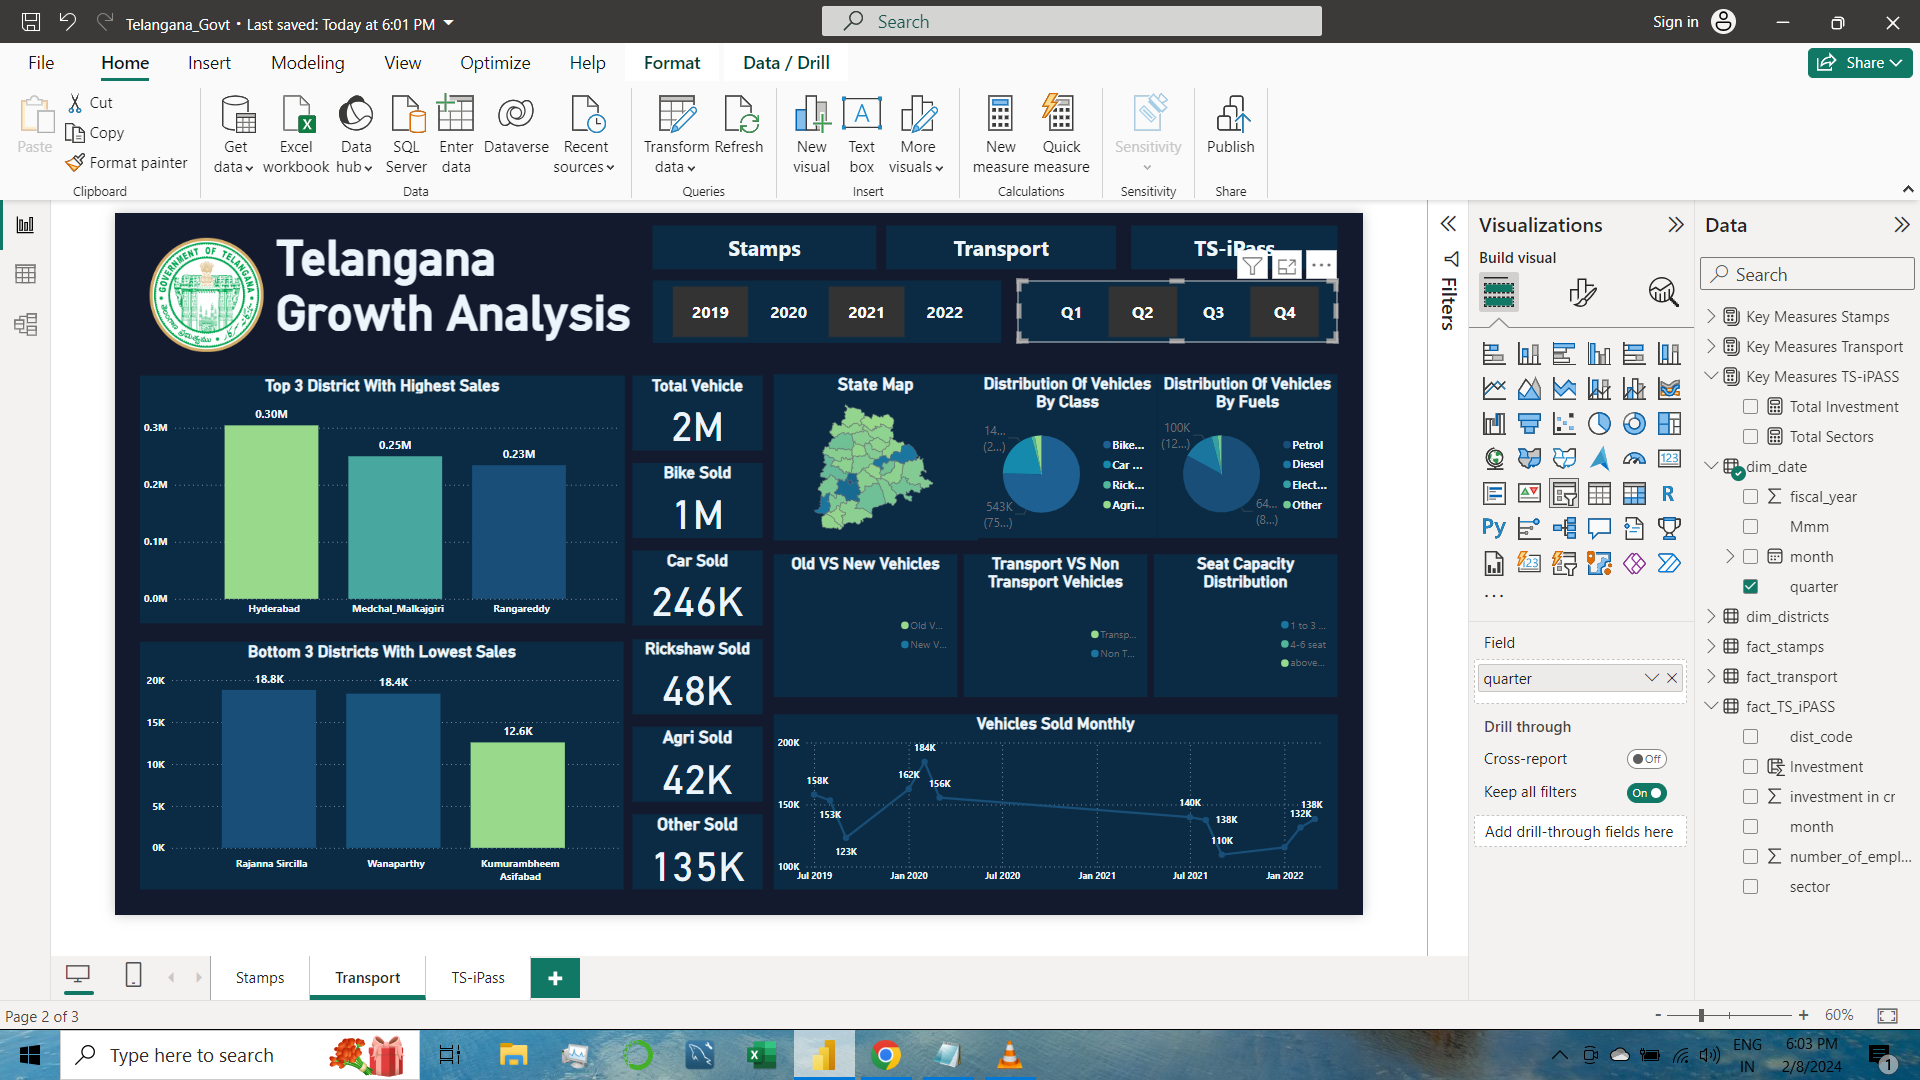

The page's visual inventory and layout, read from the dashboard file:
{"tool":"powerbi","page":{"name":"Transport","canvas":[1664,936],"ordinal":1},"visuals":[{"type":"slicer","fields":{"Values":["dim_date.fiscal_year"]},"box":[716.7,90,465,83.3],"z":0},{"type":"slicer","fields":{"Values":["dim_date.quarter"]},"box":[1203.3,90,426.7,83.3],"z":1000},{"type":"clusteredColumnChart","title":"Top 3 District With Highest Sales","fields":{"Category":["dim_districts.district"],"Y":["Key Measures Transport.Total Vehicle Sold"]},"box":[34,216,646,330],"z":2000},{"type":"clusteredColumnChart","title":"Bottom 3 Districts With Lowest Sales","fields":{"Category":["dim_districts.district"],"Y":["Key Measures Transport.Total Vehicle Sold"]},"box":[33.3,571.7,645,330],"z":3000},{"type":"lineChart","title":"Vehicles Sold Monthly","fields":{"Category":["dim_date.month"],"Y":["Key Measures Transport.Total Vehicle Sold"]},"box":[878.3,668.3,751.7,233.3],"z":4000},{"type":"donutChart","title":"Old VS New Vehicles","fields":{"Y":["Key Measures Transport.Old Vehicles","Key Measures Transport.New Vehicles"]},"box":[878.3,455,245,190],"z":5000},{"type":"pieChart","title":"Distribution Of Vehicles By Class","fields":{"Y":["Key Measures Transport.Bike sOLD","Key Measures Transport.Car Sold","Key Measures Transport.Rickshaw Sold","Key Measures Transport.Agriculture Sold"]},"box":[1150,215,240,218.8],"z":6000},{"type":"card","title":"Other Sold","fields":{"Values":["Key Measures Transport.Other Vechile Sold"]},"box":[690,801.7,173.3,100],"z":7000},{"type":"card","title":"Agri Sold","fields":{"Values":["Key Measures Transport.Agriculture Sold"]},"box":[690,684.7,173.3,100],"z":8000},{"type":"card","title":"Rickshaw Sold","fields":{"Values":["Key Measures Transport.Rickshaw Sold"]},"box":[690,567.7,173.3,100],"z":9000},{"type":"card","title":"Car Sold","fields":{"Values":["Key Measures Transport.Used Vehicles Sold"]},"box":[690,450.7,173.3,100],"z":10000},{"type":"shapeMap","title":"State Map","fields":{"Category":["dim_districts.district"],"Value":["Key Measures Transport.Total Vehicle Sold"]},"box":[878.3,215,271.7,221.7],"z":11000},{"type":"card","title":"Bike Sold","fields":{"Values":["Key Measures Transport.New Vehicles Sold"]},"box":[690,333.7,173.3,100],"z":12000},{"type":"card","title":"Total Vehicle ","fields":{"Values":["Key Measures Transport.Total Vehicle Sold"]},"box":[690,216.7,173.3,100],"z":13000},{"type":"image","box":[33.3,28.3,176.7,161.7],"z":14000},{"type":"textbox","box":[210,16.7,506.7,173.3],"z":15000},{"type":"actionButton","box":[716.7,16.7,298.3,58.3],"z":16000},{"type":"actionButton","box":[1355,16.7,275,58.3],"z":17000},{"type":"actionButton","box":[1028.3,16.7,306.7,58.3],"z":18000},{"type":"donutChart","title":"Transport VS Non Transport Vehicles","fields":{"Y":["Key Measures Transport.Transport Vehicles","Key Measures Transport.Non Transport"]},"box":[1131.7,455,245,190],"z":19000},{"type":"donutChart","title":"Seat Capacity Distribution","fields":{"Y":["Key Measures Transport.1 to 3 seat","Key Measures Transport.4-6 seat","Key Measures Transport.above 6 seat"]},"box":[1385,455,245,190],"z":20000},{"type":"pieChart","title":"Distribution Of Vehicles By Fuels","fields":{"Y":["Key Measures Transport.Petrol","Key Measures Transport.Diesel","Key Measures Transport.Electric","Key Measures Transport.Other Fuel type"]},"box":[1390,215,240,218.3],"z":21000}]}

Visuals, with their boxes on the page's 1664x936 design canvas (x1, y1, x2, y2). These are canvas units, not pixel positions in the 1920x1080 screenshot, which may show the page scaled, cropped or inside an application window:
slicer - dim_date.fiscal_year: (717, 90, 1182, 173)
slicer - dim_date.quarter: (1203, 90, 1630, 173)
"Top 3 District With Highest Sales" clusteredColumnChart: (34, 216, 680, 546)
"Bottom 3 Districts With Lowest Sales" clusteredColumnChart: (33, 572, 678, 902)
"Vehicles Sold Monthly" lineChart: (878, 668, 1630, 902)
"Old VS New Vehicles" donutChart: (878, 455, 1123, 645)
"Distribution Of Vehicles By Class" pieChart: (1150, 215, 1390, 434)
"Other Sold" card: (690, 802, 863, 902)
"Agri Sold" card: (690, 685, 863, 785)
"Rickshaw Sold" card: (690, 568, 863, 668)
"Car Sold" card: (690, 451, 863, 551)
"State Map" shapeMap: (878, 215, 1150, 437)
"Bike Sold" card: (690, 334, 863, 434)
"Total Vehicle " card: (690, 217, 863, 317)
image: (33, 28, 210, 190)
textbox: (210, 17, 717, 190)
actionButton: (717, 17, 1015, 75)
actionButton: (1355, 17, 1630, 75)
actionButton: (1028, 17, 1335, 75)
"Transport VS Non Transport Vehicles" donutChart: (1132, 455, 1377, 645)
"Seat Capacity Distribution" donutChart: (1385, 455, 1630, 645)
"Distribution Of Vehicles By Fuels" pieChart: (1390, 215, 1630, 433)
